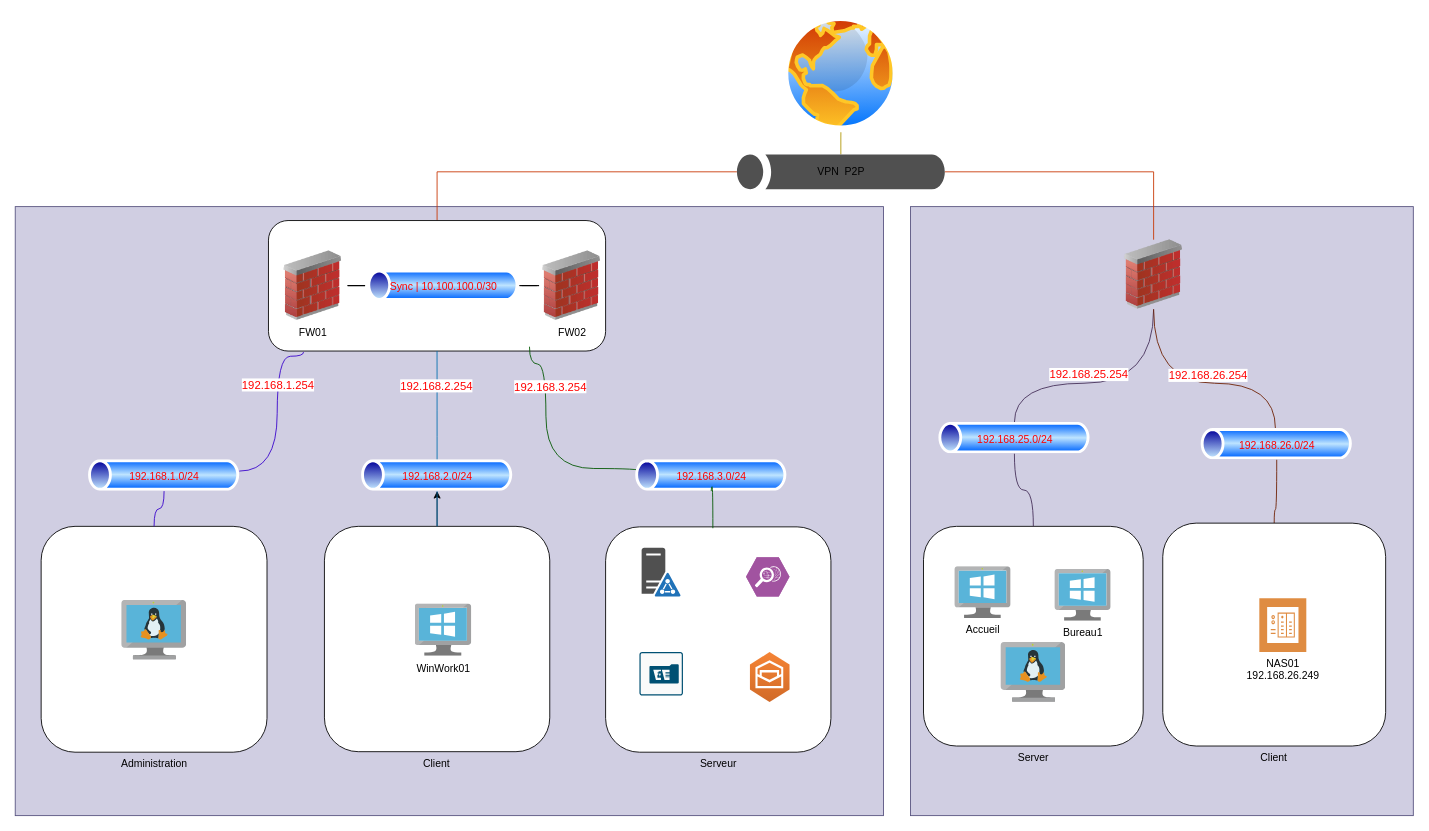
The diagram is 1429 pixels wide and 831 high, and some of its shapes have lost their labels. The shapes that lost their labels are listed below. From the top down, each one's box as (x1, y1, x2, y2) in pixels, then its label:
(1118, 239, 1188, 309): FW_OFF
(14, 206, 883, 816): Site Atelier
(910, 206, 1413, 816): Site Office
(641, 547, 680, 596): AD01 192.168.3.253
(745, 556, 790, 596): Monit01 192.168.3.252
(121, 600, 186, 659): Admin01 192.168.1.200
(639, 651, 683, 696): GLPI 192.168.3.251
(749, 651, 790, 702): MailServer 192.168.3.240
(1000, 642, 1065, 702): Admin02 192.168.25.200
